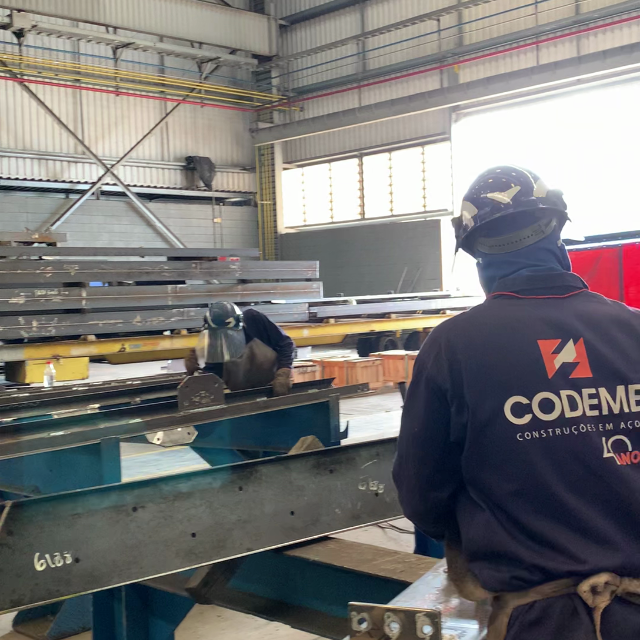face-shield: (196, 329, 248, 365)
glove: (271, 368, 294, 398)
helmet: (458, 166, 568, 257), (204, 298, 242, 327)
person: (391, 166, 638, 636), (187, 299, 296, 398)
